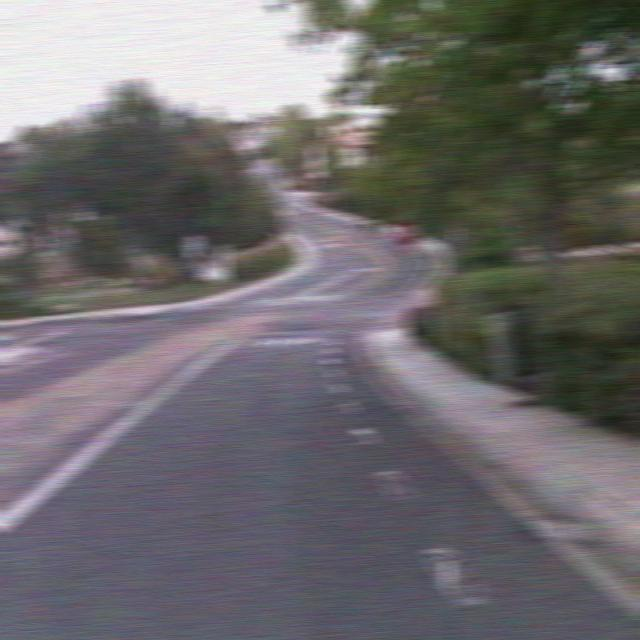stop_sign: (392, 213, 423, 247)
